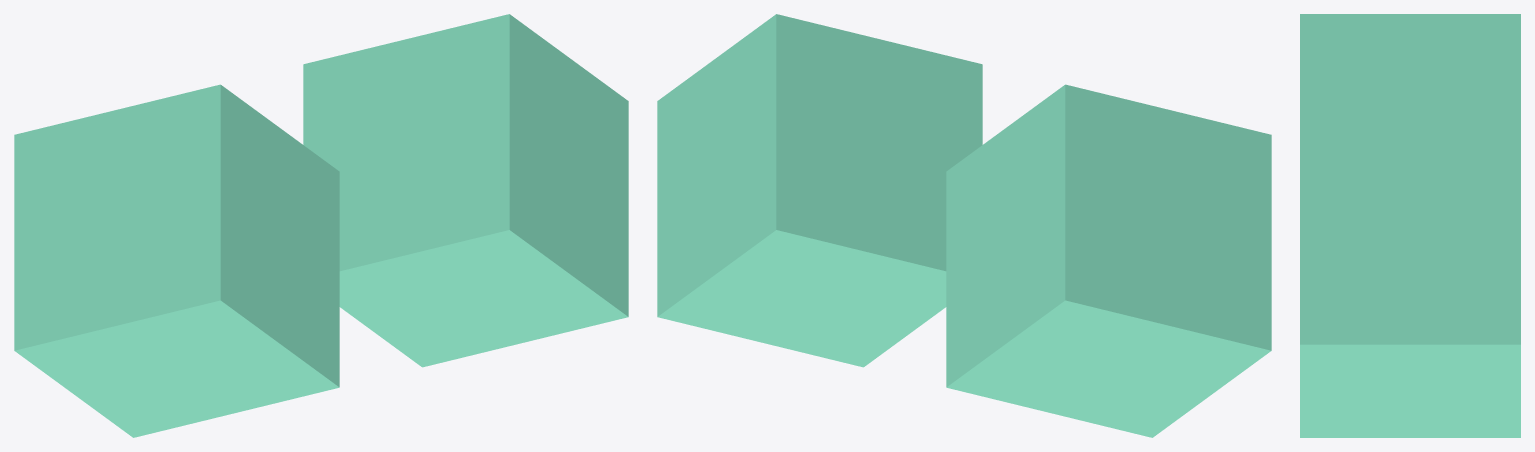
Rendered from two_part_model.gltf.
3 renders of one model, left to right at view 1: azimuth 30°, elevation 25°; view 2: azimuth 150°, elevation 25°; view 3: azimuth 270°, elevation 25°, orthographic. The views are drawn at different scales.
Visible parts, largest first — view 1: LeftPart, RightPart; view 2: LeftPart, RightPart; view 3: RightPart, LeftPart.
Boxes of the visible parts, x1,y1,x2,y2 form: LeftPart: [14, 84, 339, 437]; RightPart: [303, 14, 628, 367]; LeftPart: [946, 84, 1271, 437]; RightPart: [657, 14, 982, 367]; RightPart: [1300, 144, 1520, 437]; LeftPart: [1300, 14, 1520, 144].
Size of the model in its own units: 2.4 by 1 by 1.
